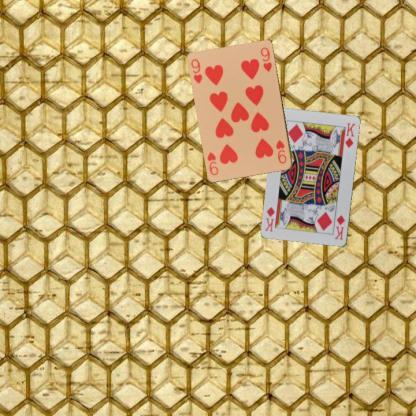9h: (188, 57, 204, 86), (273, 138, 288, 164)
Kd: (332, 212, 346, 242)
